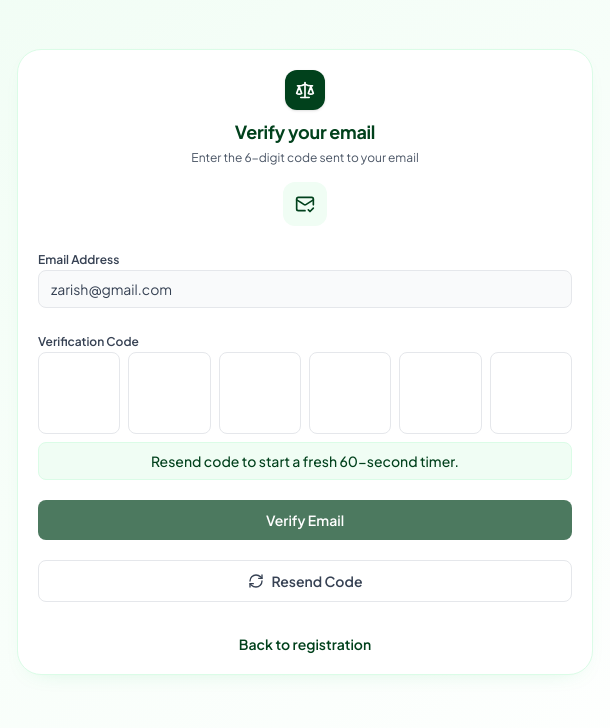
Test: VerifyEmail (OTP screen) › requests a fresh code and clears the boxes when Resend is pressed
Click the field named "OTP digit 1": (79, 393) left=38, top=352, right=120, bottom=434
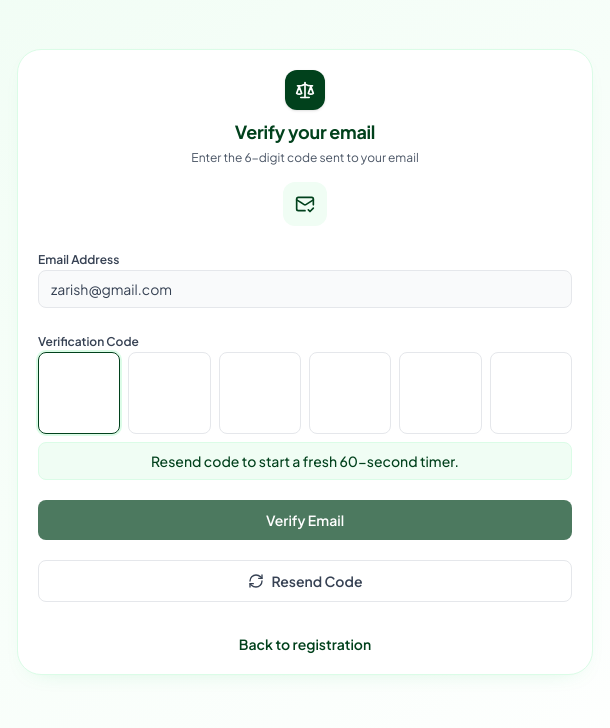
Type keys "123456"
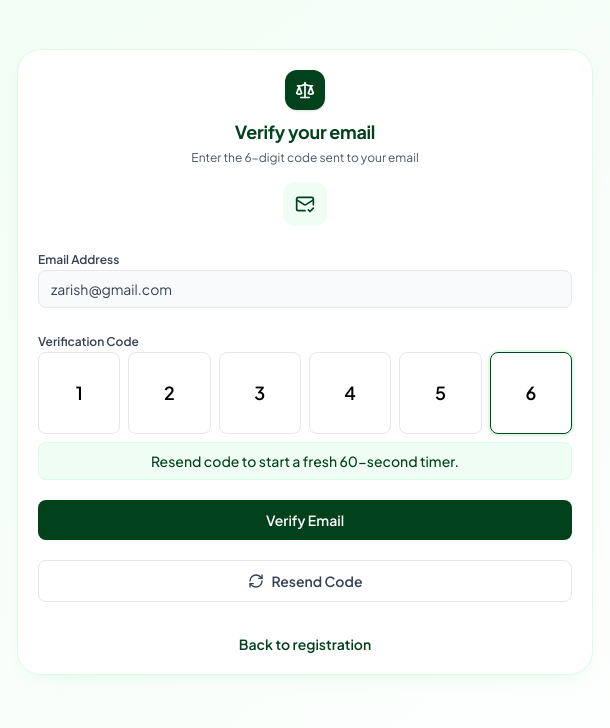
Click the button "Resend Code": (305, 581) left=38, top=560, right=572, bottom=602
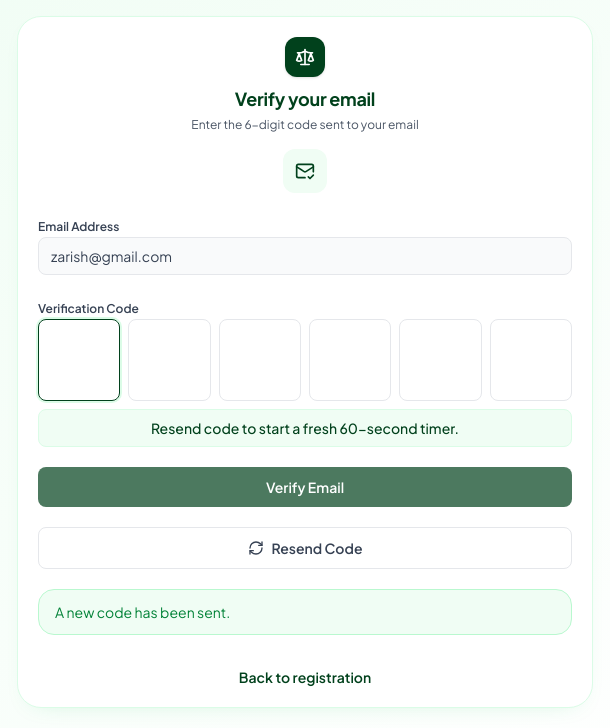
Check: the field named "OTP digit 1" is empty, box left=38, top=319, right=120, bottom=401
Check: the text "A new code has been sent." is shown, box left=38, top=589, right=572, bottom=635
